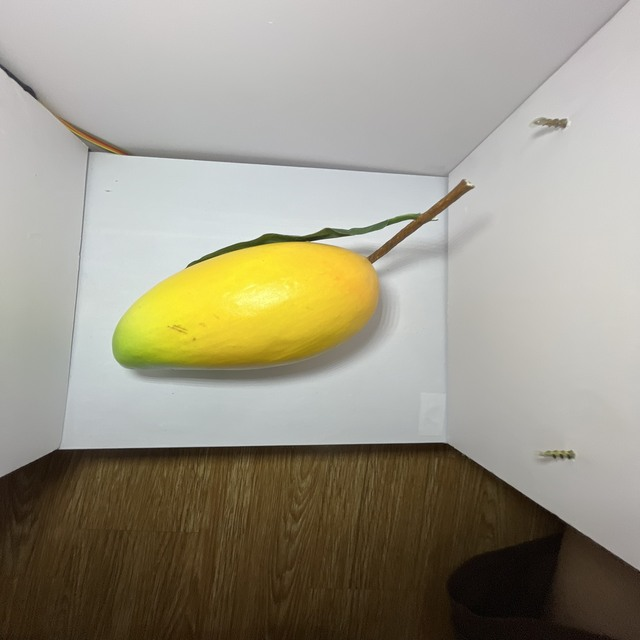Xoai: (84, 185, 414, 441)
